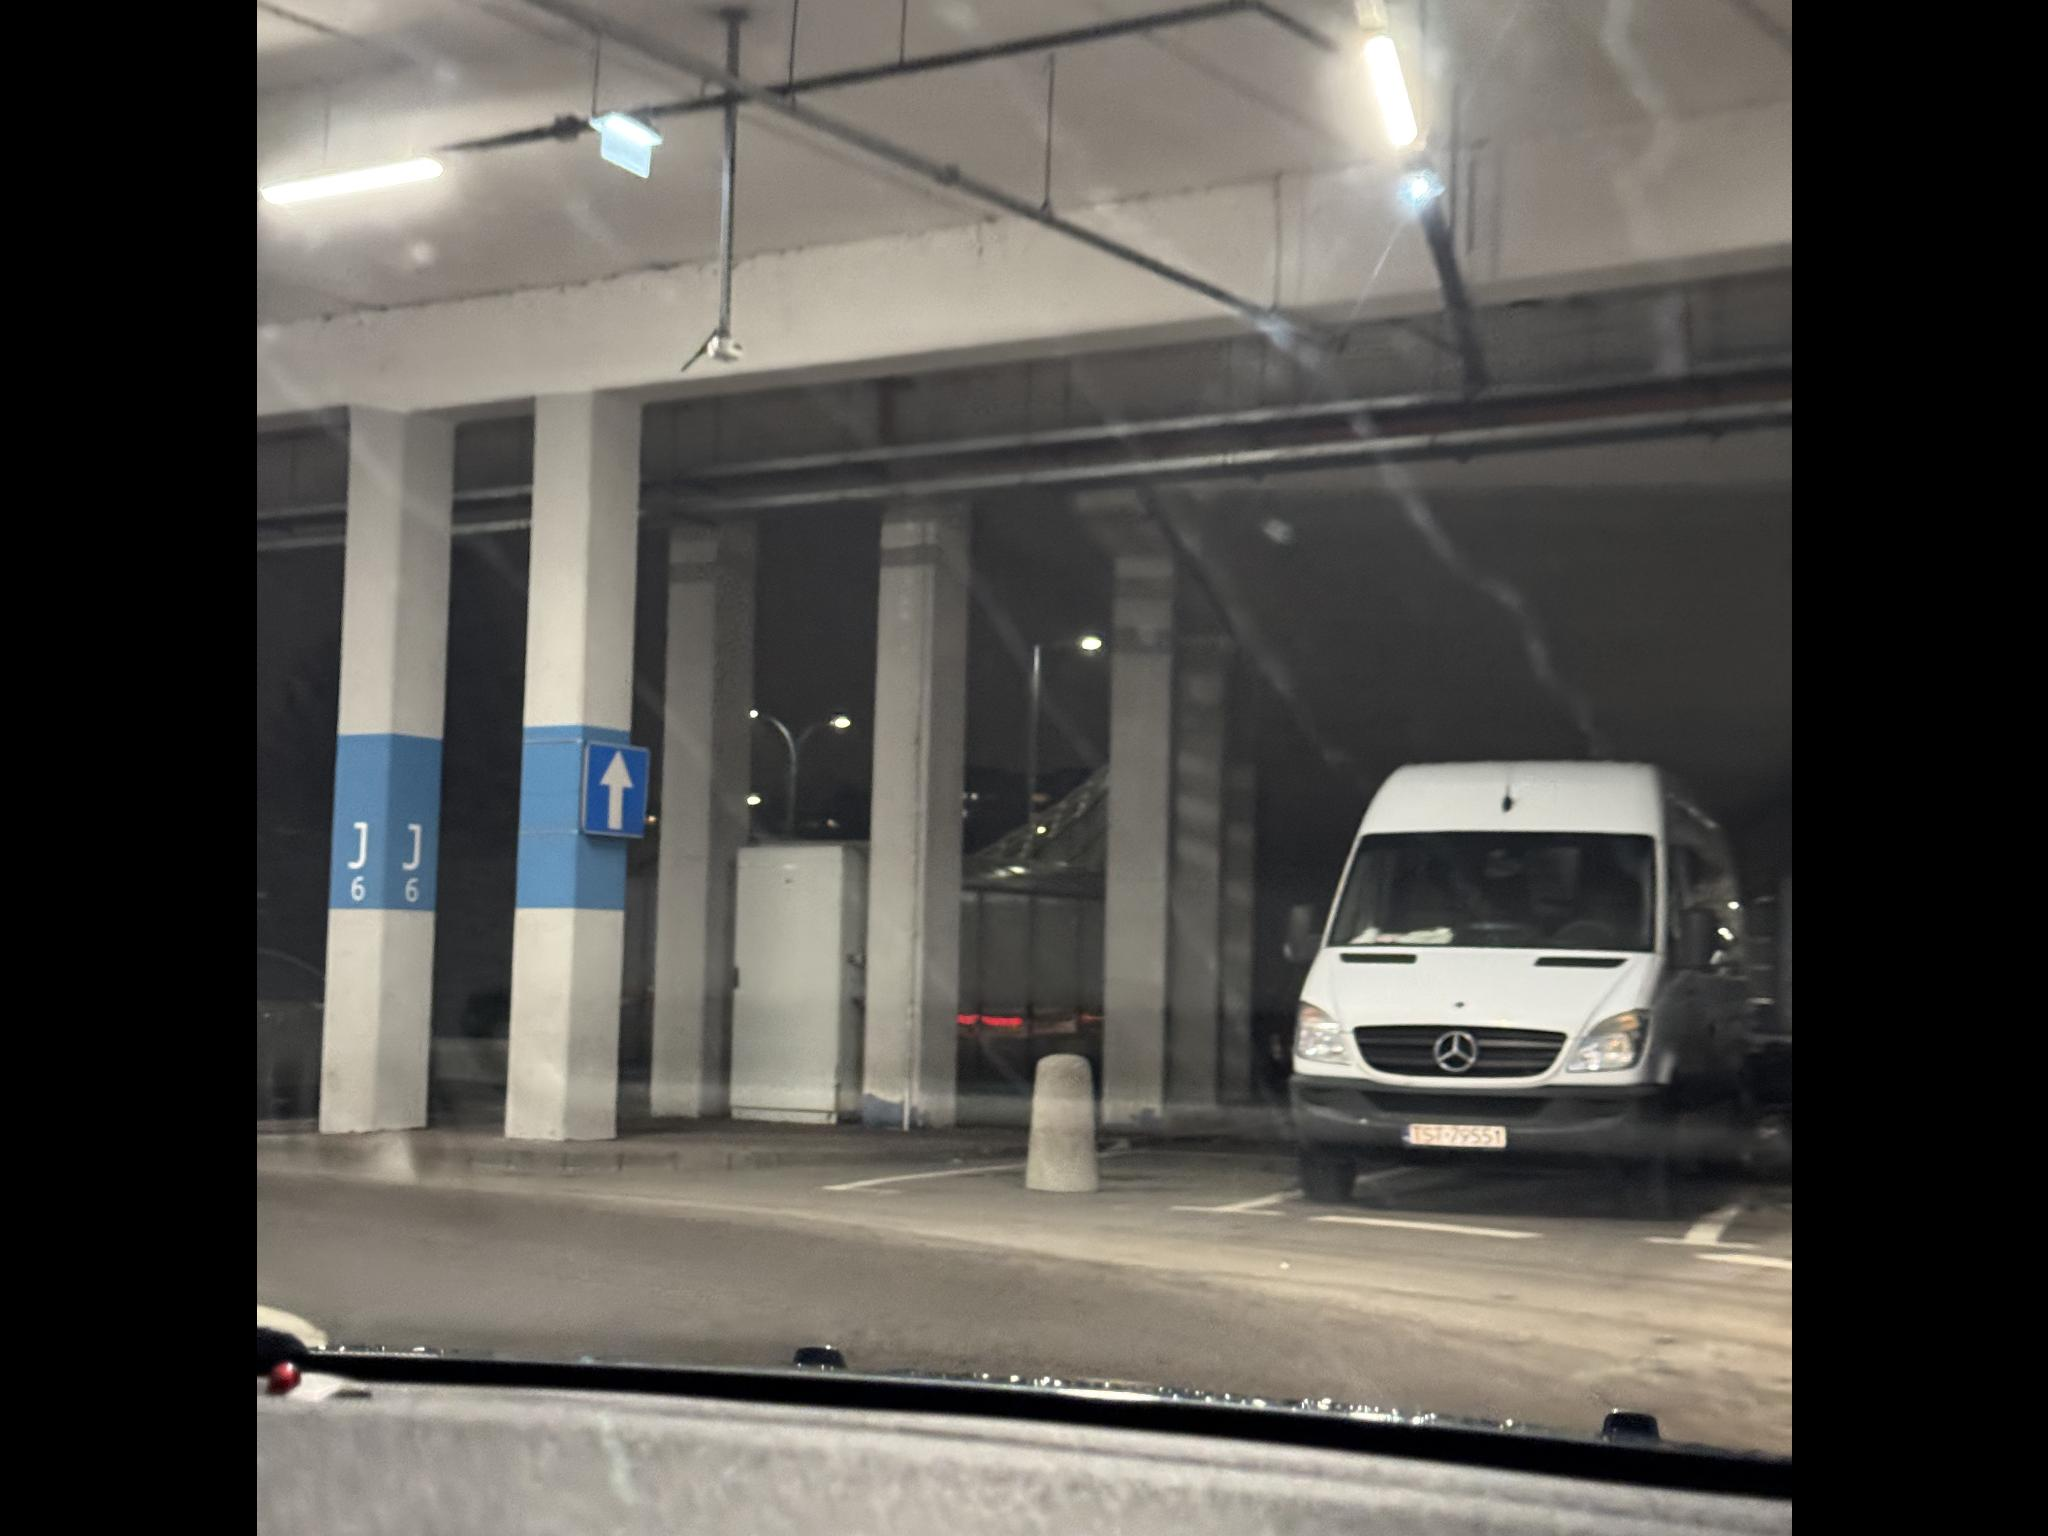information: (695, 69, 797, 139)
